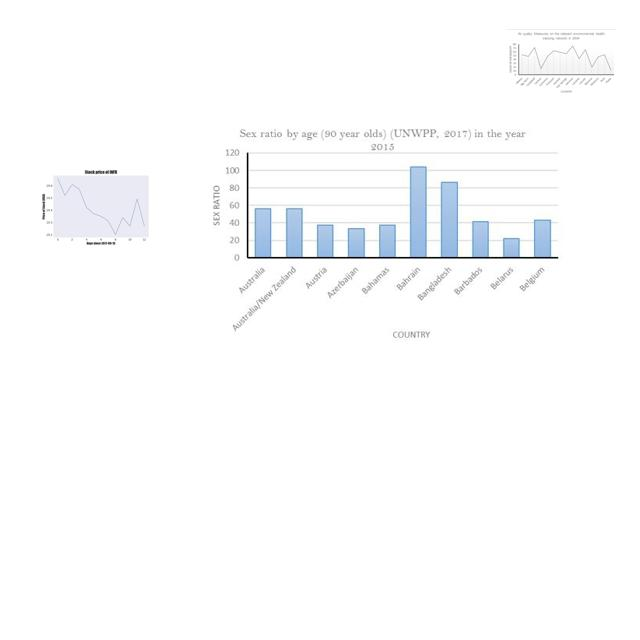Graph: (201, 123, 566, 341), (38, 160, 161, 252), (506, 29, 616, 96)
